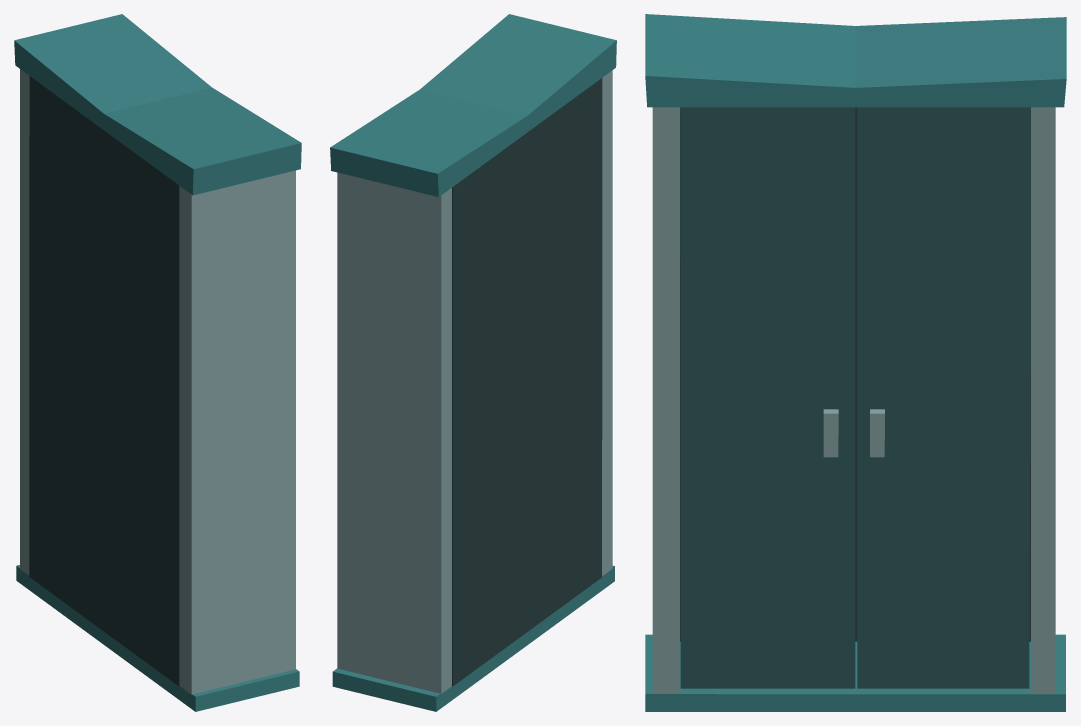
The model's file is cupboard living room.fbx.
3 views of the same model, side by side, from view 1: azimuth 30°, elevation 25°; view 2: azimuth 150°, elevation 25°; view 3: azimuth 270°, elevation 25° (orthographic). The views are drawn at different scales.
Parts seen in each view (by area): view 1: cupboard living room; view 2: cupboard living room; view 3: cupboard living room door right, cupboard living room door left, cupboard living room.
Boxes of the visible parts, box(x1,y1,x2,y2) form: cupboard living room: box(14, 14, 301, 711); cupboard living room: box(330, 14, 616, 711); cupboard living room door right: box(680, 107, 855, 688); cupboard living room door left: box(857, 107, 1030, 688); cupboard living room: box(645, 14, 1066, 711).
Size of the model in its own units: 0.7054 by 3.33 by 2.
